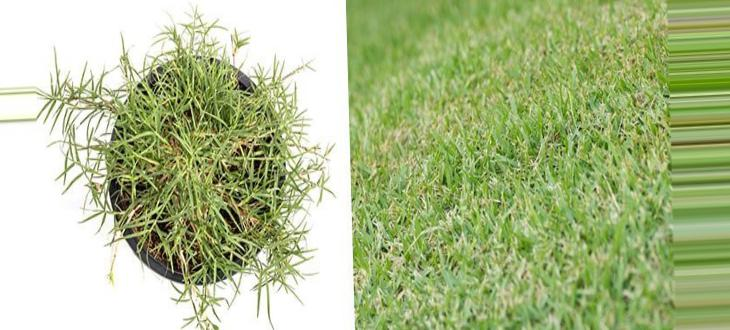patch: (409, 64, 436, 93), (145, 227, 164, 248)
